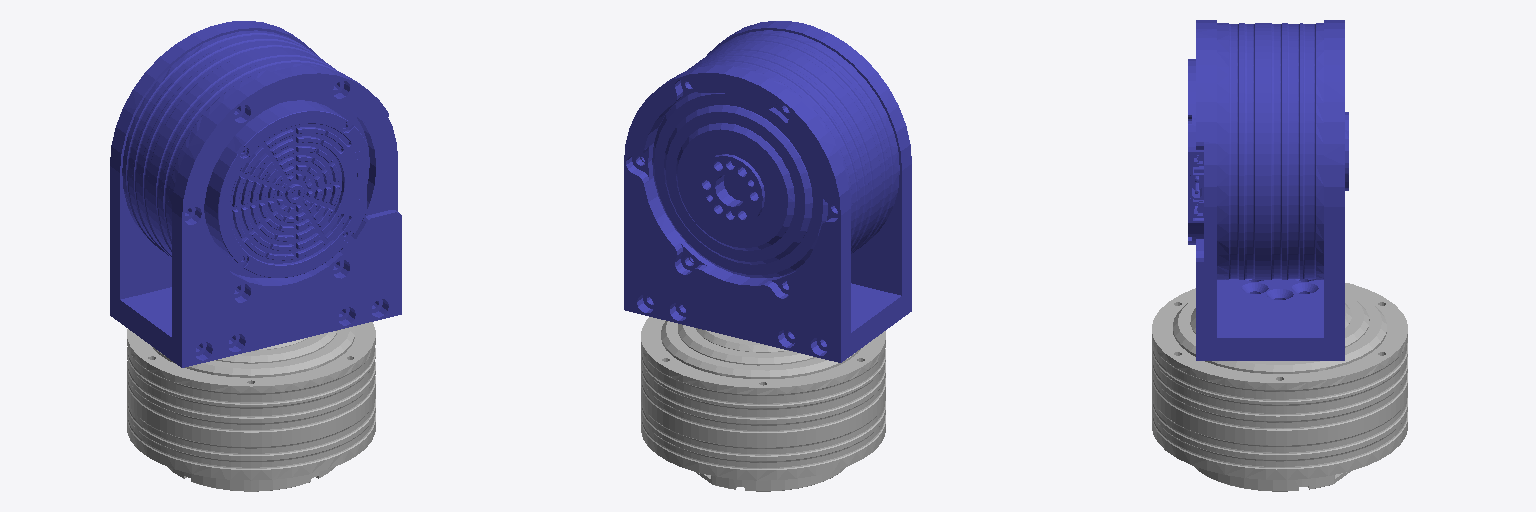
robot.urdf — arm_main.SLDASM:
<?xml version="1.0" encoding="utf-8"?>
<!-- This URDF was automatically created by SolidWorks to URDF Exporter! Originally created by [author] ([email redacted]) 
     Commit Version: 1.6.0-4-g7f85cfe  Build Version: 1.6.7995.38578
     For more information, please see http://wiki.ros.org/sw_urdf_exporter -->
<robot
  name="arm_main.SLDASM">
  <link
    name="Turning_Link">
    <inertial>
      <origin
        xyz="3.31317027662591E-05 -1.8414473396882E-05 -0.0293809512378475"
        rpy="0 0 0" />
      <mass
        value="0.348346114242274" />
      <inertia
        ixx="0.000252227391062675"
        ixy="-4.77655343401811E-08"
        ixz="1.16106427520326E-08"
        iyy="0.000252164100995757"
        iyz="4.3597808094984E-08"
        izz="0.0003901762043136" />
    </inertial>
    <visual>
      <origin
        xyz="0 0 0"
        rpy="0 0 0" />
      <geometry>
        <mesh
          filename="../meshes/Turning_Link.STL" />
      </geometry>
      <material
        name="">
        <color
          rgba="0.749019607843137 0.749019607843137 0.749019607843137 1" />
      </material>
    </visual>
    <collision>
      <origin
        xyz="0 0 0"
        rpy="0 0 0" />
      <geometry>
        <mesh
          filename="../meshes/Turning_Link.STL" />
      </geometry>
    </collision>
  </link>
  <link
    name="Shoulder_Link">
    <inertial>
      <origin
        xyz="-9.9935E-05 0.0090611 -0.029684"
        rpy="0 0 0" />
      <mass
        value="0.46304" />
      <inertia
        ixx="0.00034949"
        ixy="-1.0821E-06"
        ixz="-9.8619E-08"
        iyy="0.00037403"
        iyz="6.3613E-08"
        izz="0.00059779" />
    </inertial>
    <visual>
      <origin
        xyz="0 0 0"
        rpy="0 0 0" />
      <geometry>
        <mesh
          filename="../meshes/Shoulder_Link.STL" />
      </geometry>
      <material
        name="">
        <color
          rgba="0.33725 0.33725 0.74902 1" />
      </material>
    </visual>
    <collision>
      <origin
        xyz="0 0 0"
        rpy="0 0 0" />
      <geometry>
        <mesh
          filename="../meshes/Shoulder_Link.STL" />
      </geometry>
    </collision>
  </link>
  <joint
    name="Shoulder"
    type="revolute">
    <origin
      xyz="0 0.02645 0.065"
      rpy="-1.5708 0 0" />
    <parent
      link="Turning_Link" />
    <child
      link="Shoulder_Link" />
    <axis
      xyz="0 0 1" />
    <limit
      lower="-3.14"
      upper="3.14"
      effort="0"
      velocity="0" />
  </joint>
</robot>

--- Render facts (derived) ---
The picture shows the robot from 3 angles, left to right: view 1: azimuth 30°, elevation 25°; view 2: azimuth 150°, elevation 25°; view 3: azimuth 270°, elevation 25°; orthographic projection.
Model arm_main.SLDASM with 2 links and 1 joints (1 revolute), rooted at Turning_Link, posed all joints at 0.
Links seen in each view (by area): view 1: Shoulder_Link, Turning_Link; view 2: Shoulder_Link, Turning_Link; view 3: Shoulder_Link, Turning_Link.
Boxes of the visible links, x1,y1,x2,y2 form: Shoulder_Link: (110,21,401,367); Turning_Link: (127,322,375,491); Shoulder_Link: (624,21,911,362); Turning_Link: (641,317,885,491); Shoulder_Link: (1188,20,1348,360); Turning_Link: (1152,283,1407,491).
Size in the robot's own frame: 0.1 by 0.098 by 0.1767 metres.
2 mesh visuals loaded from 2 distinct referenced files (2 binary STL).